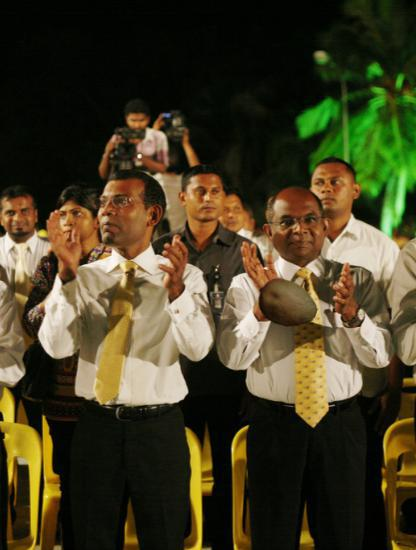Papaya: (257, 273, 318, 334)
